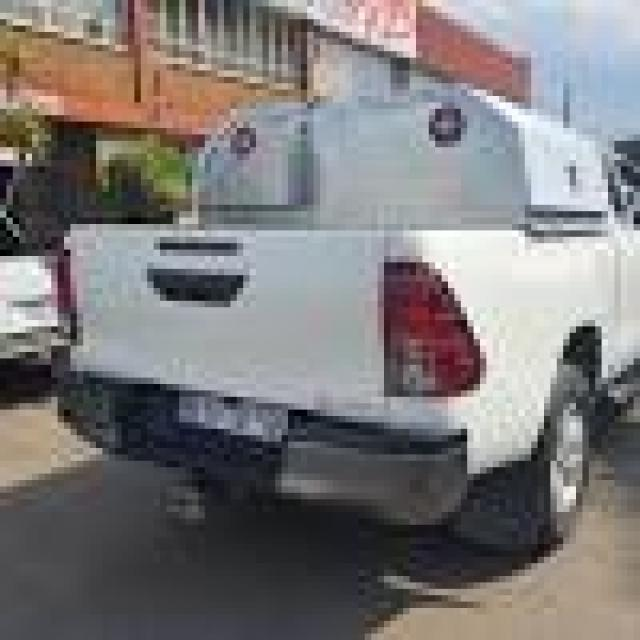light_vehicle: (32, 77, 627, 621)
